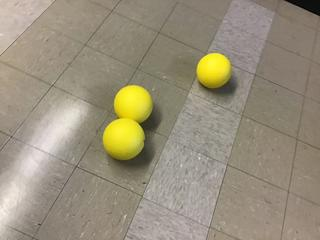power_cell: (110, 83, 153, 122), (102, 119, 145, 158), (195, 53, 234, 91)
